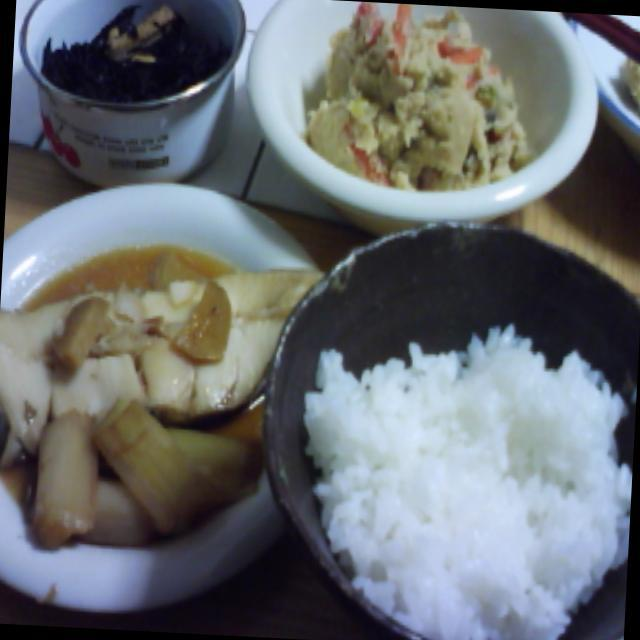Rice: (320, 316, 627, 640)
